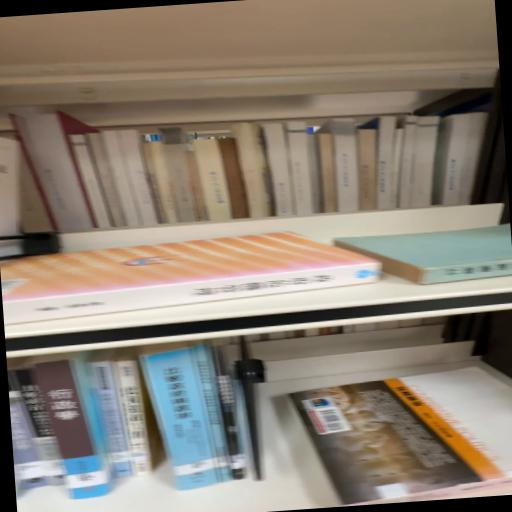flat: (0, 232, 380, 325), (288, 367, 512, 506), (333, 224, 512, 285)
